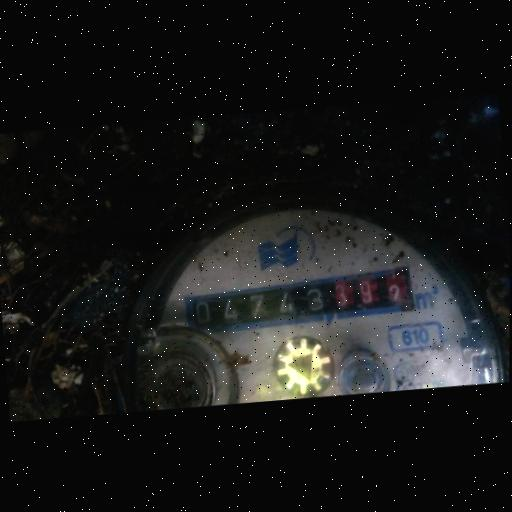0: (191, 295, 221, 331)
2: (381, 266, 415, 313)
3: (325, 278, 360, 314), (297, 281, 331, 318)
4: (271, 286, 303, 321), (217, 293, 248, 327)
7: (243, 289, 278, 324)
9: (355, 276, 388, 310)
border_water_meter_number: (182, 263, 417, 341)
